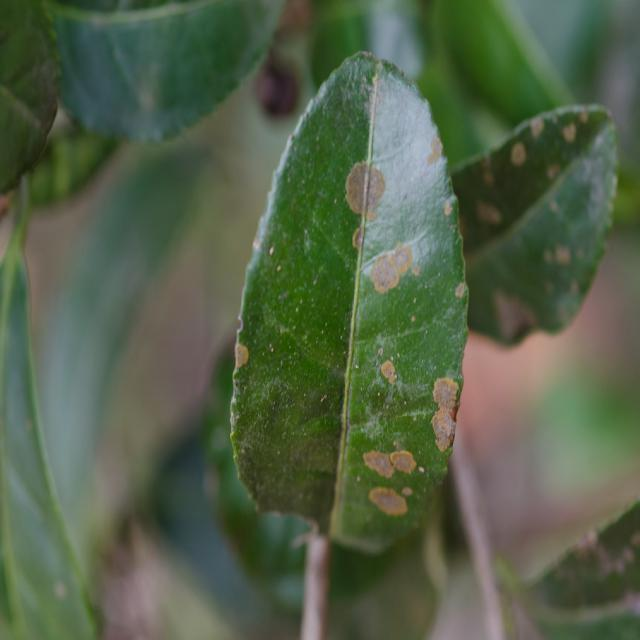Tea algae leaf spot: (323, 150, 468, 556)
